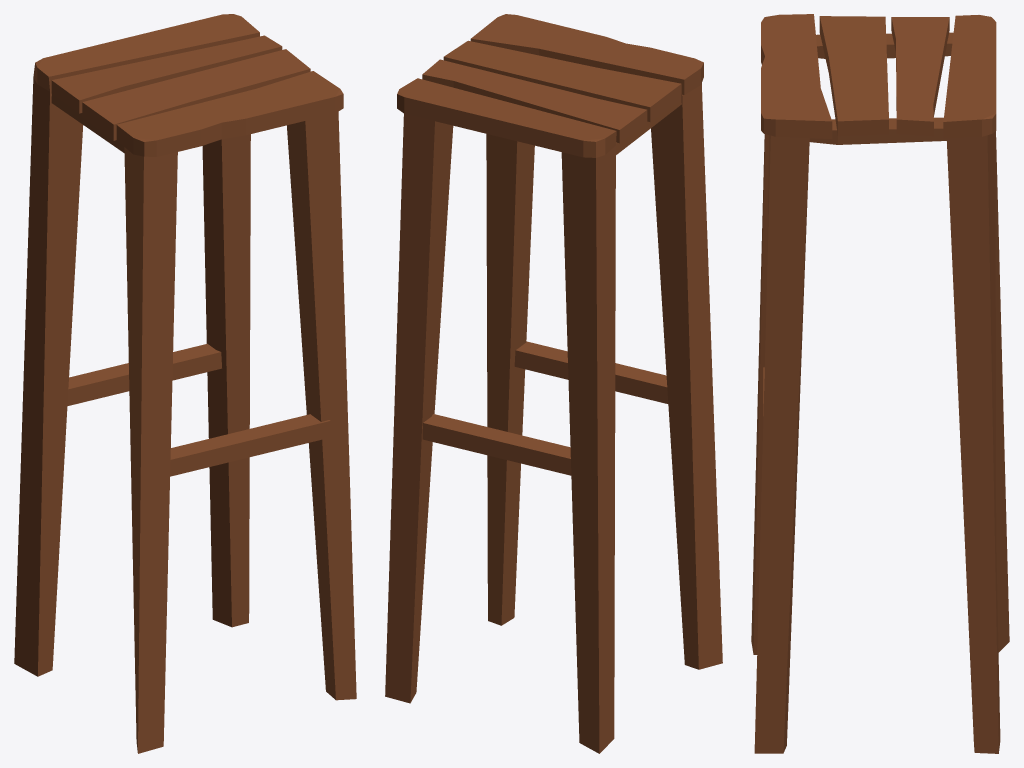
The model's file is chairwoodbarstool02.gltf.
3 renders of one model, left to right at view 1: azimuth 30°, elevation 25°; view 2: azimuth 150°, elevation 25°; view 3: azimuth 270°, elevation 25°, orthographic. The views are drawn at different scales.
Parts seen in each view (by area): view 1: Cube; view 2: Cube; view 3: Cube.
Boxes of the visible parts, x1,y1,x2,y2 form: Cube: [14, 14, 356, 753]; Cube: [385, 14, 722, 753]; Cube: [751, 14, 1009, 753].
Size of the model in its own units: 0.2476 by 0.6504 by 0.2408.
1 material, 1 textured.
